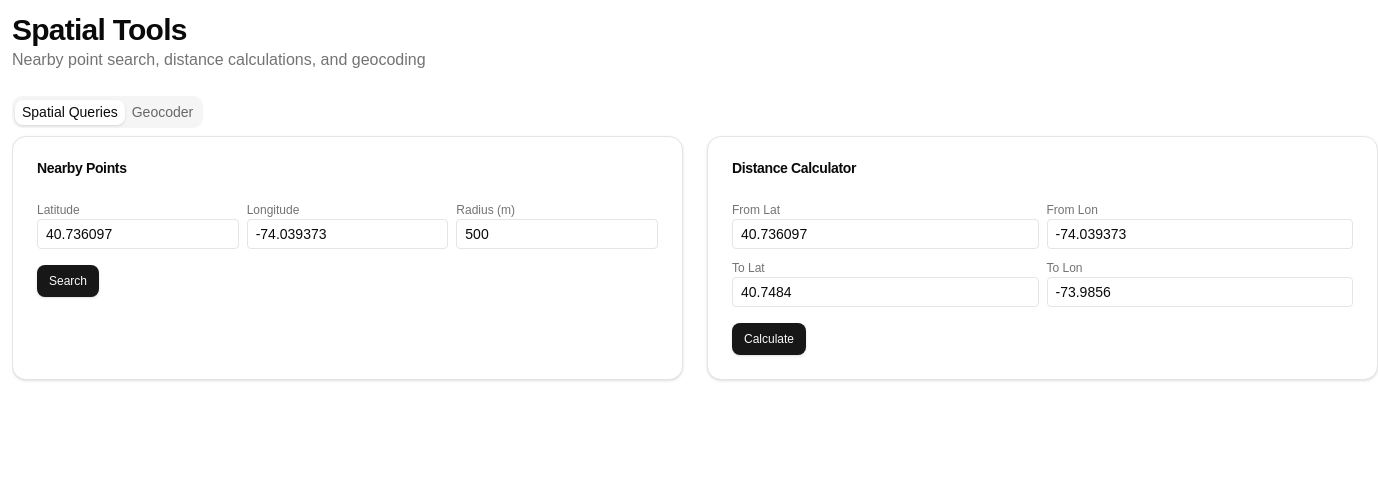
it: SpatialPage › runs distance calculations and renders the formatted result
Replace the text in the field labelled "From Lat" with "40.7000" at (885, 234), box [732,219,1038,249]
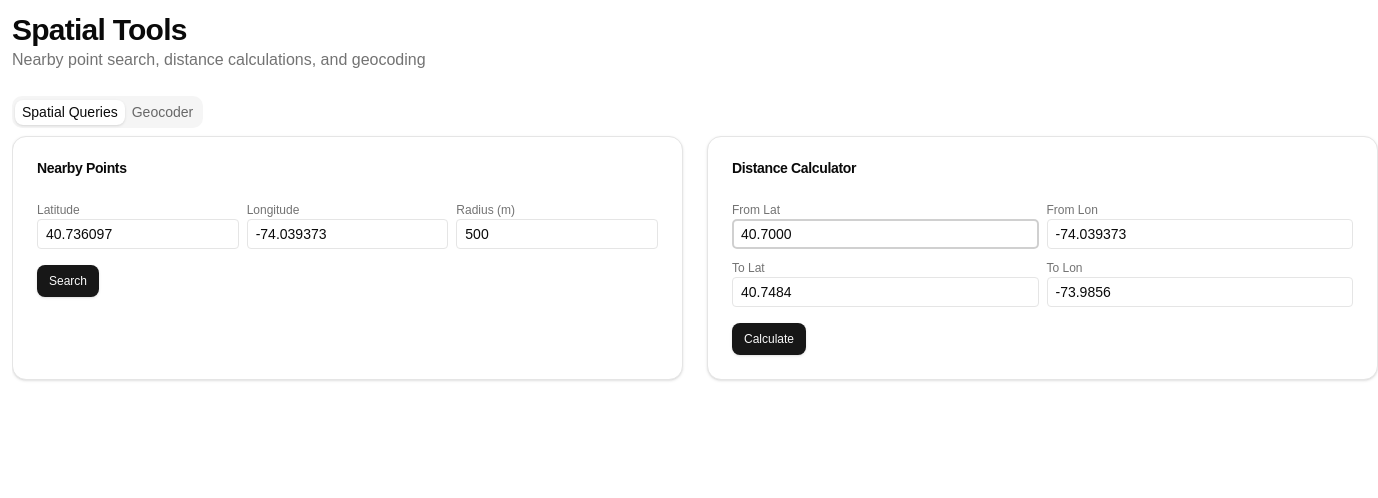
Click the button "Calculate" at (769, 339), box [732,323,806,355]
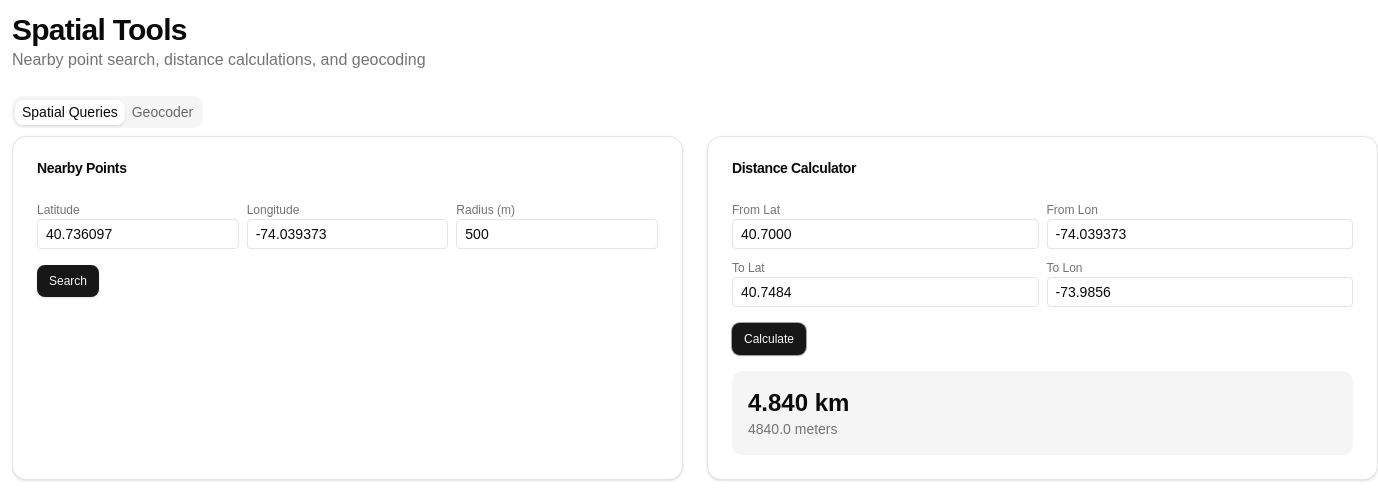
Now the text "4.840 km" is shown, box [748,389,849,416]
